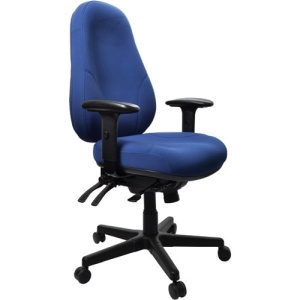chair: (69, 1, 232, 300)
